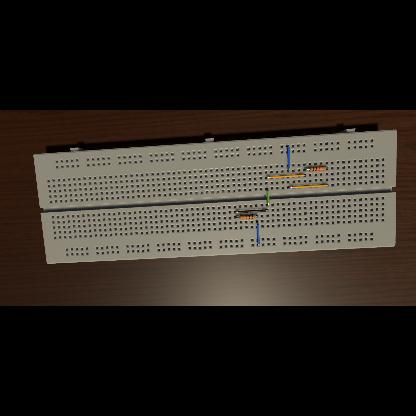breadboard: (34, 128, 396, 264)
resistor: (309, 166, 325, 172), (240, 214, 254, 220)
wire: (265, 175, 305, 179), (288, 184, 328, 188), (286, 146, 290, 172), (234, 209, 268, 212), (256, 222, 260, 246), (265, 188, 269, 206), (235, 216, 239, 218), (254, 216, 258, 217), (326, 168, 328, 168), (303, 170, 309, 170)
